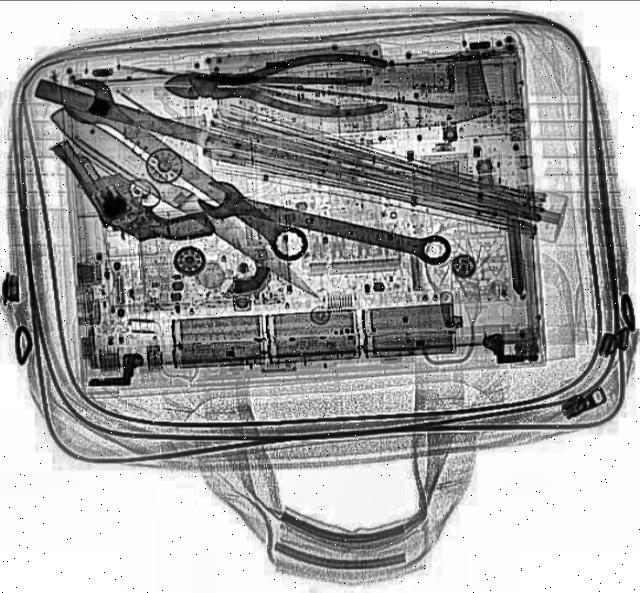Gun: (46, 105, 216, 274)
Knife: (29, 74, 468, 244), (33, 92, 335, 320)
Pliers: (166, 54, 387, 118)
Wrench: (46, 67, 324, 273), (192, 177, 453, 273)
